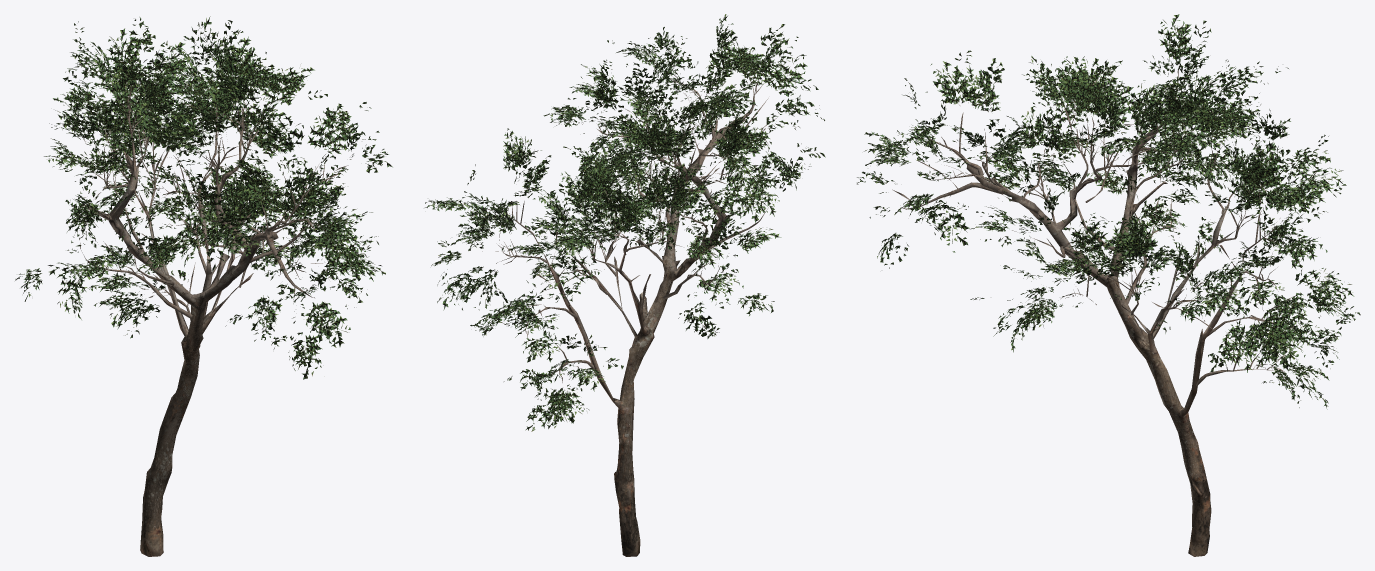
The model's file is tree-small-02-lod0.glb.
The picture shows the model from 3 angles, left to right: view 1: azimuth 30°, elevation 25°; view 2: azimuth 150°, elevation 25°; view 3: azimuth 270°, elevation 25°; orthographic projection. The views are drawn at different scales.
Parts seen in each view (by area): view 1: tree_small_02_LOD0; view 2: tree_small_02_LOD0; view 3: tree_small_02_LOD0.
Part boxes in pixels (x1,y1,x2,y2): tree_small_02_LOD0: [15, 16, 392, 556]; tree_small_02_LOD0: [425, 14, 825, 556]; tree_small_02_LOD0: [857, 14, 1360, 556].
Size of the model in its own units: 2.89 by 4.55 by 4.17.
Materials: 3 (3 with a texture image).
